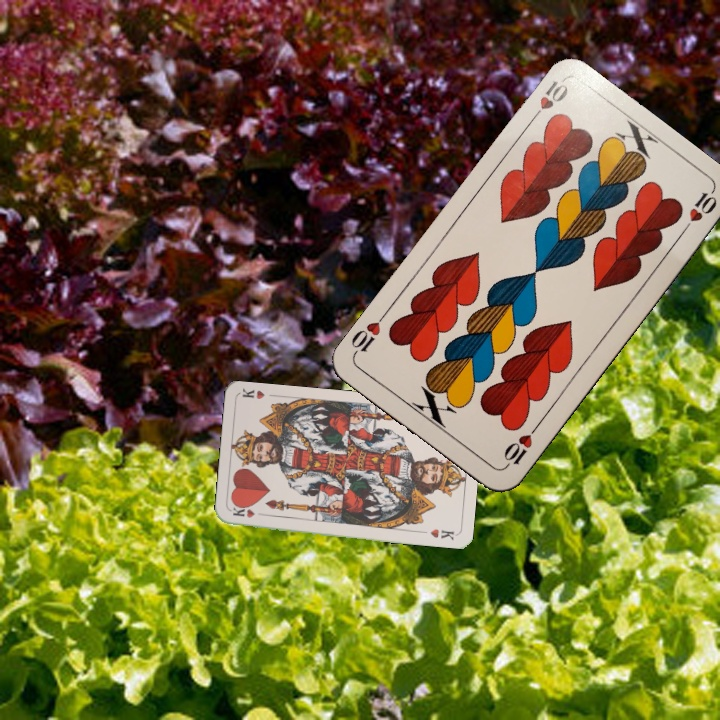H10: (525, 76, 571, 126), (499, 421, 541, 471)
HK: (229, 505, 269, 520)
